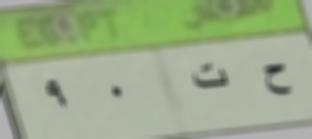0: (107, 76, 129, 113)
7aa: (257, 58, 296, 107)
9: (41, 76, 70, 114)
taa: (191, 60, 235, 92)
